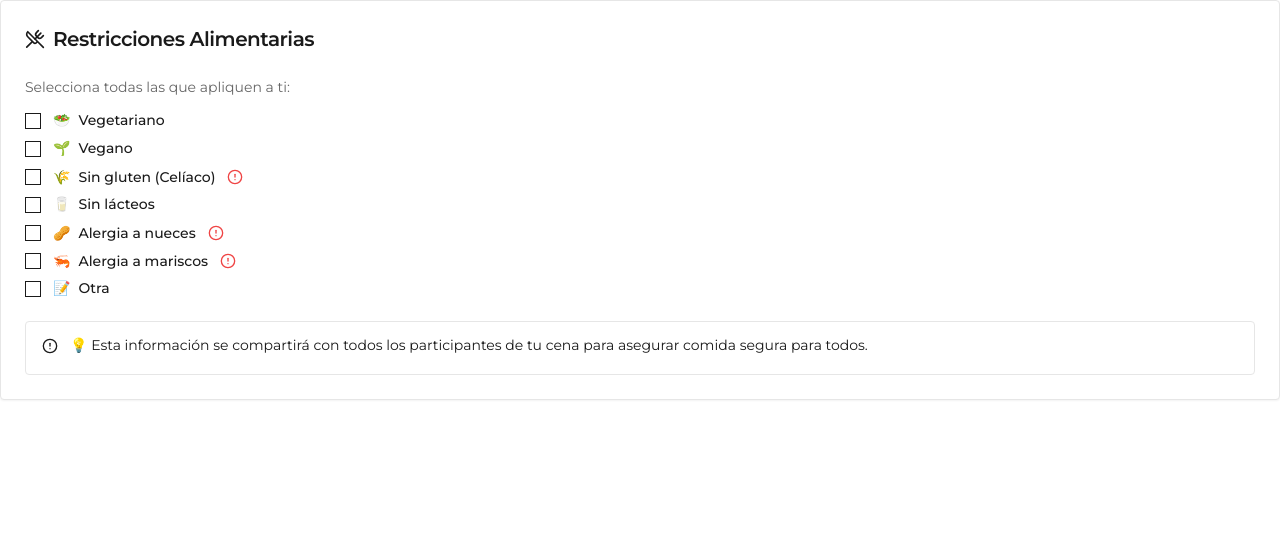
Test: DietaryRestrictionsForm › shows textarea when "Otra" is selected
Click the checkbox named "Otra" next to "Otra": (33, 289) [25,281,41,297]
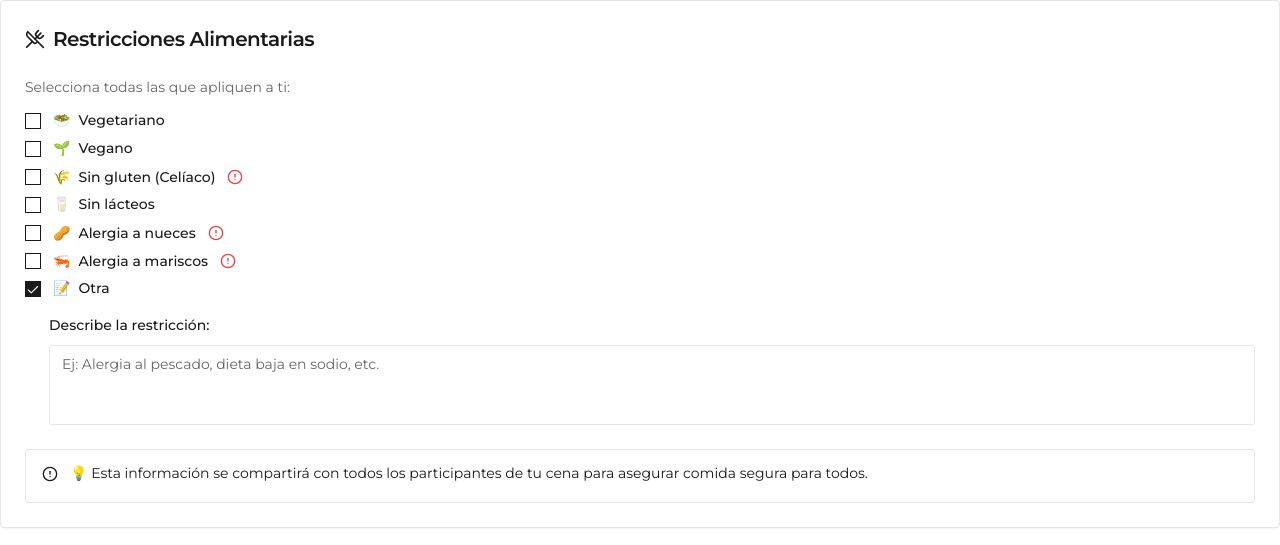
Expected: the text box with placeholder "Ej: Alergia al pescado, dieta baja en sodio, etc." is shown, [49,345,1255,425]
